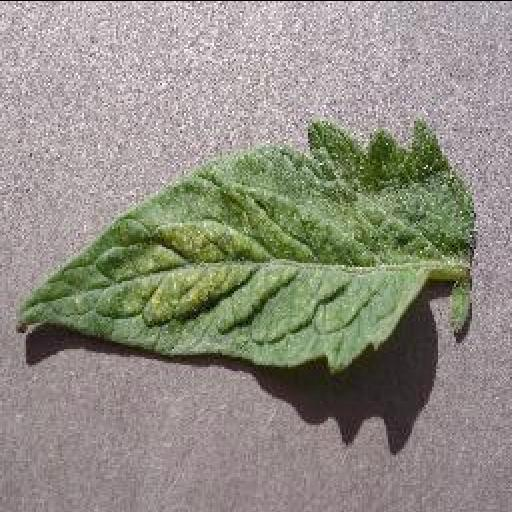disease_tomato: (12, 122, 472, 370)
